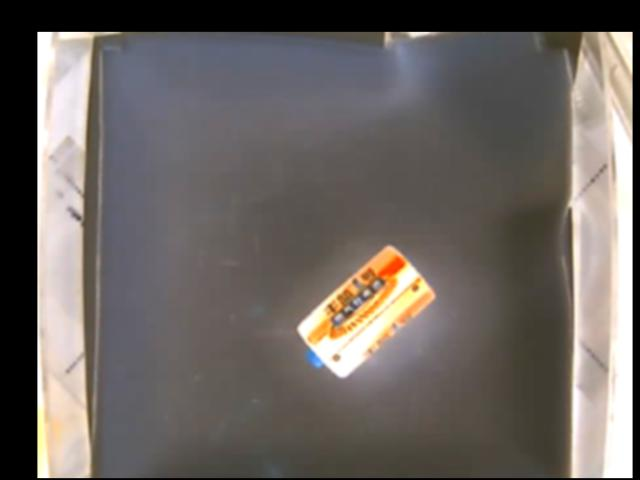Battery: (295, 245, 435, 378)
